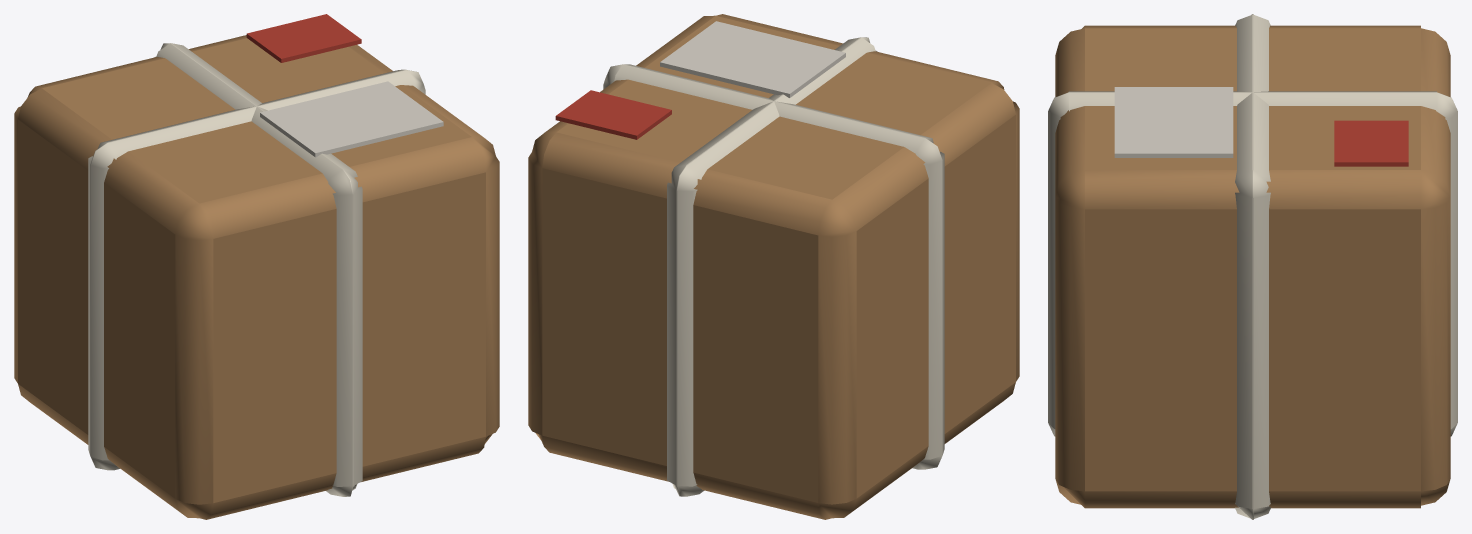
The model's file is parcel_pip.glb.
The picture shows the model from 3 angles, left to right: view 1: azimuth 30°, elevation 25°; view 2: azimuth 150°, elevation 25°; view 3: azimuth 270°, elevation 25°; orthographic projection. The views are drawn at different scales.
Visible parts, largest first — view 1: body; view 2: body; view 3: body.
Boxes of the visible parts, box(x1,y1,x2,y2) form: body: box(14, 14, 499, 519); body: box(528, 14, 1019, 519); body: box(1048, 14, 1457, 519).
Bounding box in the file's own units: 0.332 × 0.316 × 0.332.
